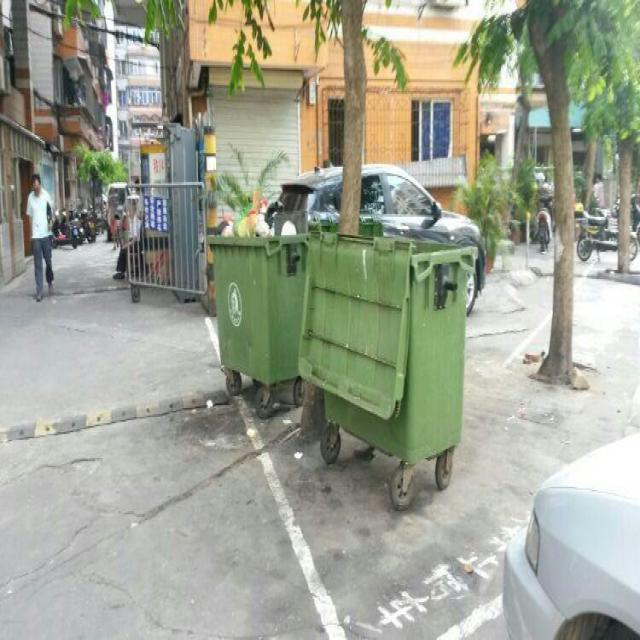garbage_bin: (300, 223, 476, 464)
overflow: (207, 181, 314, 379)
